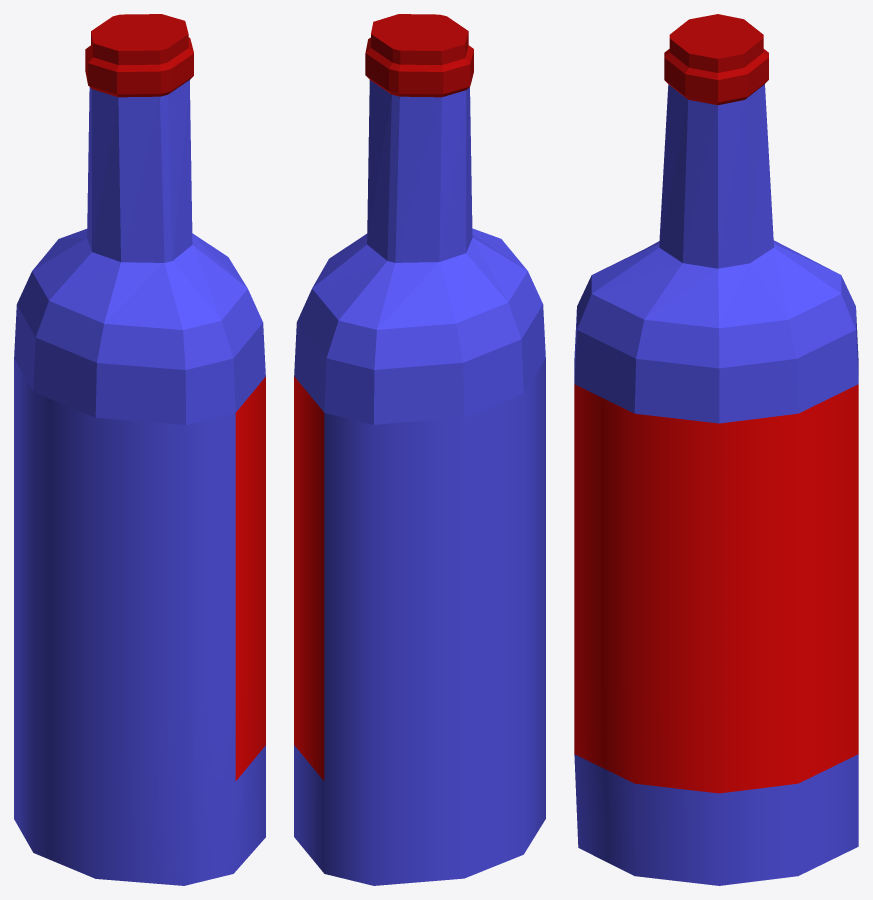
File: BotellaVino2.fbx
The picture shows the model from 3 angles, left to right: view 1: azimuth 30°, elevation 25°; view 2: azimuth 150°, elevation 25°; view 3: azimuth 270°, elevation 25°; orthographic projection.
Parts seen in each view (by area): view 1: BotellaVino02_LOD00; view 2: BotellaVino02_LOD00; view 3: BotellaVino02_LOD00.
Part boxes in pixels (box(x1,y1,x2,y2)): BotellaVino02_LOD00: box(14, 14, 265, 885); BotellaVino02_LOD00: box(294, 14, 545, 885); BotellaVino02_LOD00: box(574, 14, 858, 885).
Size of what is drawn, in the model's own units: 12.38 by 44.79 by 14.44.
1 material, 1 textured.
